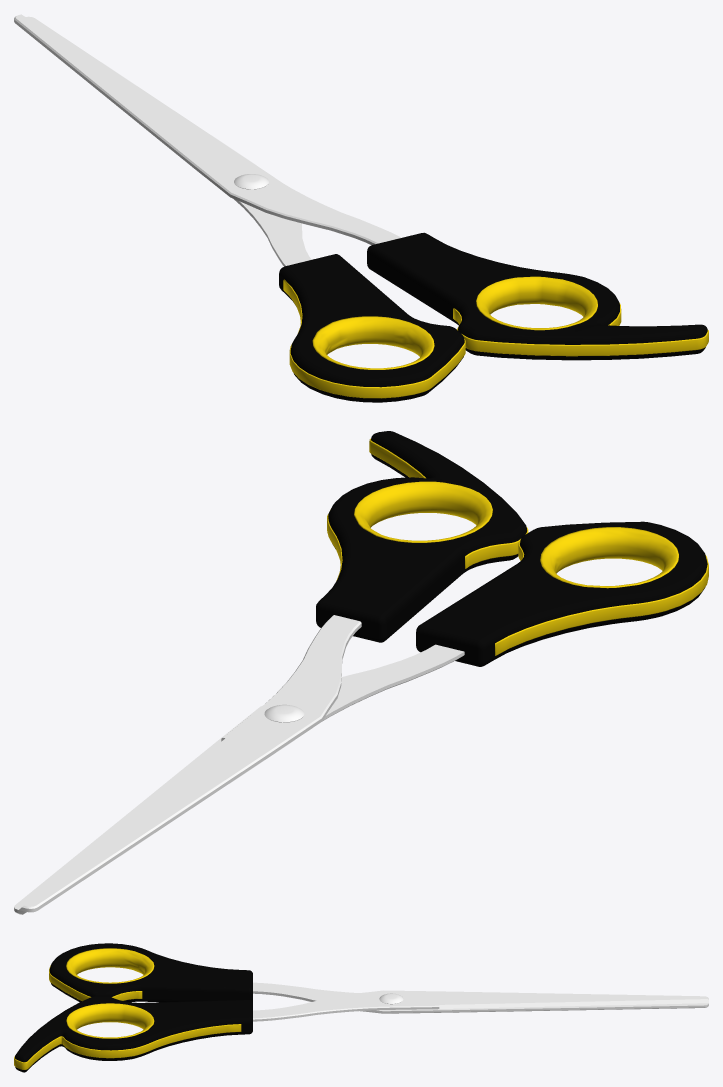
The model's file is scissors2.glb.
The picture shows the model from 3 angles, top to bottom: view 1: azimuth 30°, elevation 25°; view 2: azimuth 150°, elevation 25°; view 3: azimuth 270°, elevation 25°; orthographic projection. The views are drawn at different scales.
Parts seen in each view (by area): view 1: handle.right, blade.right, handle.left, handle.right.001, handle.left.001, handle.right.002, blade.left, handle.left.002; view 2: handle.right, handle.left, blade.right, handle.left.001, handle.right.001, blade.left, handle.left.002, handle.right.002; view 3: handle.right, blade.right, handle.left, blade.left, handle.right.002, handle.left.001, handle.right.001, handle.left.002.
Part boxes in pixels (<box>): handle.right: <box>367,232,707,360</box>; blade.right: <box>14,14,401,245</box>; handle.left: <box>279,254,464,402</box>; handle.right.001: <box>476,276,597,330</box>; handle.left.001: <box>312,316,434,369</box>; handle.right.002: <box>453,303,708,356</box>; blade.left: <box>26,16,311,266</box>; handle.left.002: <box>283,279,465,398</box>; handle.right: <box>316,431,527,642</box>; handle.left: <box>416,521,707,666</box>; blade.right: <box>19,615,361,912</box>; handle.left.001: <box>540,527,678,588</box>; handle.right.001: <box>354,481,492,542</box>; blade.left: <box>14,644,464,914</box>; handle.left.002: <box>495,541,708,655</box>; handle.right.002: <box>327,438,528,580</box>; handle.right: <box>15,996,252,1072</box>; blade.right: <box>253,990,708,1021</box>; handle.left: <box>49,943,252,1002</box>; blade.left: <box>253,982,708,1013</box>; handle.right.002: <box>14,1024,241,1069</box>; handle.left.001: <box>66,948,154,983</box>; handle.right.001: <box>66,1003,154,1038</box>; handle.left.002: <box>49,965,142,1000</box>.
Bounding box in the file's own units: 13.96 × 1.03 × 35.16.
Materials: 3 (3 with a texture image).
